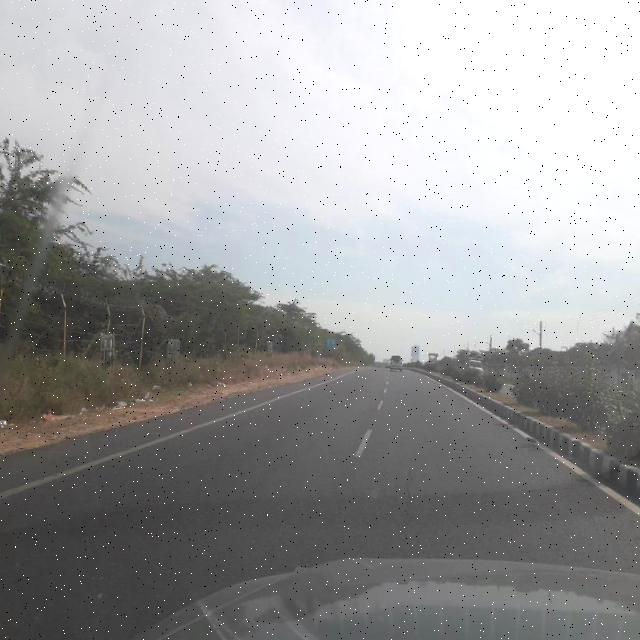D00: (396, 459, 424, 534)
